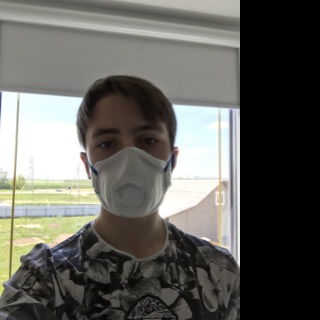with_mask: (87, 111, 174, 216)
